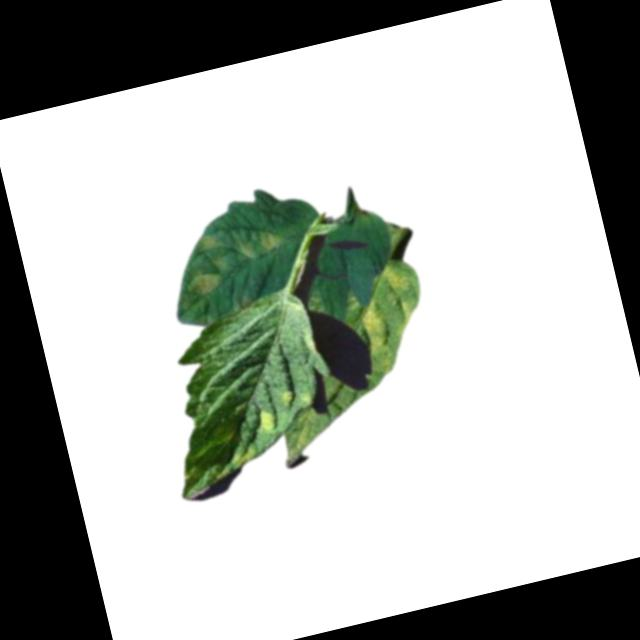Leaf_Mold: (359, 300, 398, 361), (244, 225, 288, 261), (381, 260, 416, 295), (187, 270, 225, 300), (194, 231, 227, 263), (252, 406, 281, 436)
